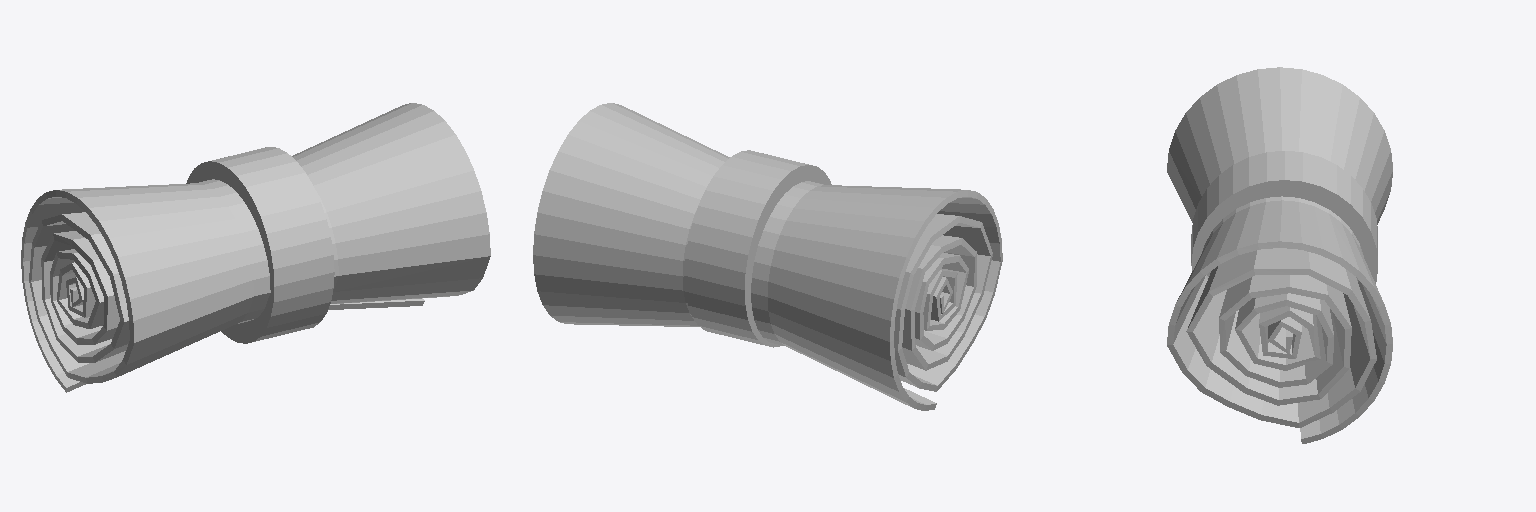
The model's file is Scroll.obj.
3 renders of one model, left to right at view 1: azimuth 30°, elevation 25°; view 2: azimuth 150°, elevation 25°; view 3: azimuth 270°, elevation 25°, orthographic.
Visible parts, largest first — view 1: Circle, Cylinder; view 2: Circle, Cylinder; view 3: Circle, Cylinder.
Part boxes in pixels (left/top/right/bottom): Circle: left=21, top=103, right=490, bottom=392; Cylinder: left=186, top=147, right=334, bottom=343; Circle: left=533, top=103, right=1002, bottom=410; Cylinder: left=684, top=150, right=831, bottom=347; Circle: left=1167, top=67, right=1392, bottom=443; Cylinder: left=1191, top=151, right=1377, bottom=283.
Size of the model in its own units: 2.45 by 1.32 by 1.34.